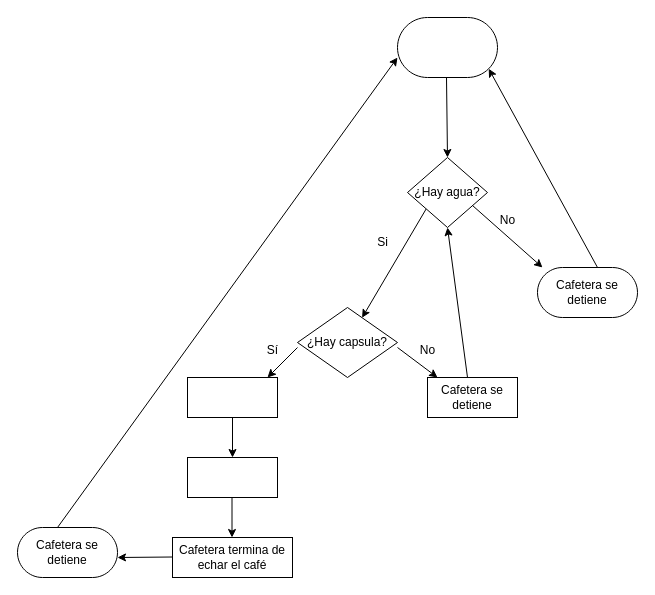
This 655x595 diagram has some shape labels left out. Each missing label, with the centre of its shape:
Cafetera en funcionamiento: (232,397)
Cafetera inicia a echar el café: (232,477)
Inicio: (447,47)
